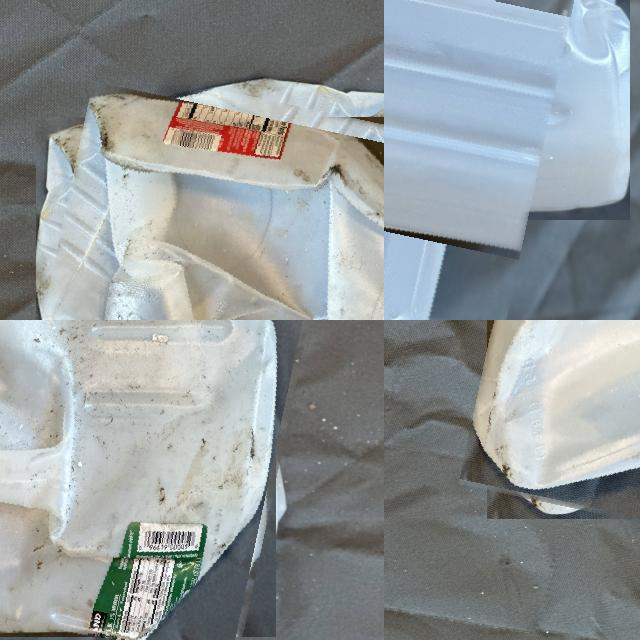milk-jug: (0, 320, 302, 640), (35, 80, 384, 320), (384, 0, 569, 317), (475, 320, 640, 539)
